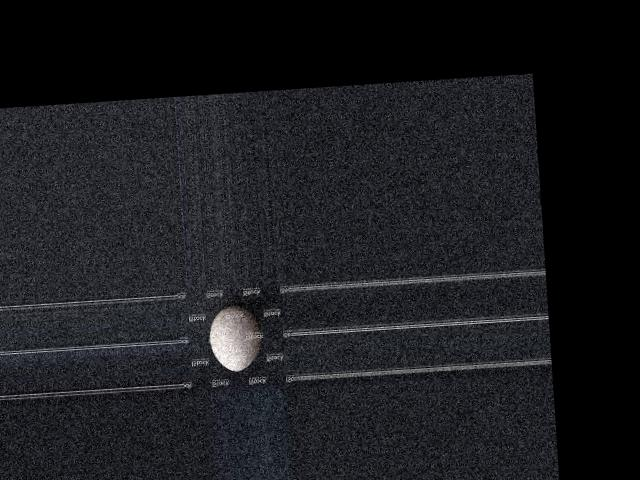egg: (208, 303, 262, 372)
